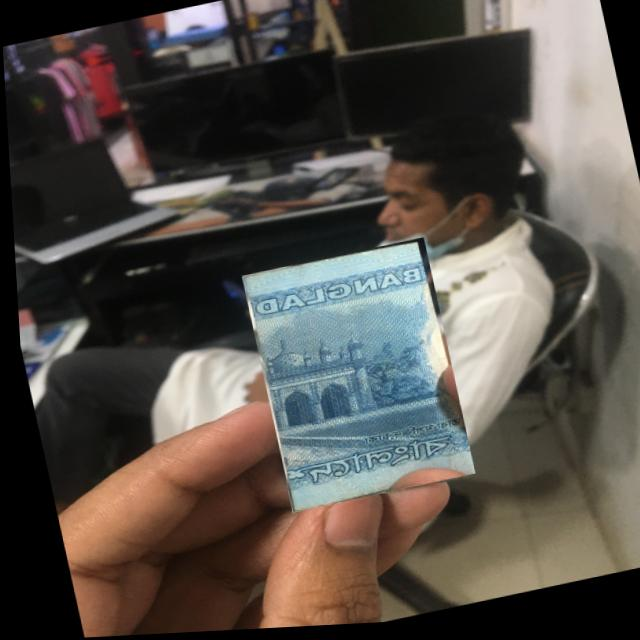Taka: (237, 240, 470, 516)
